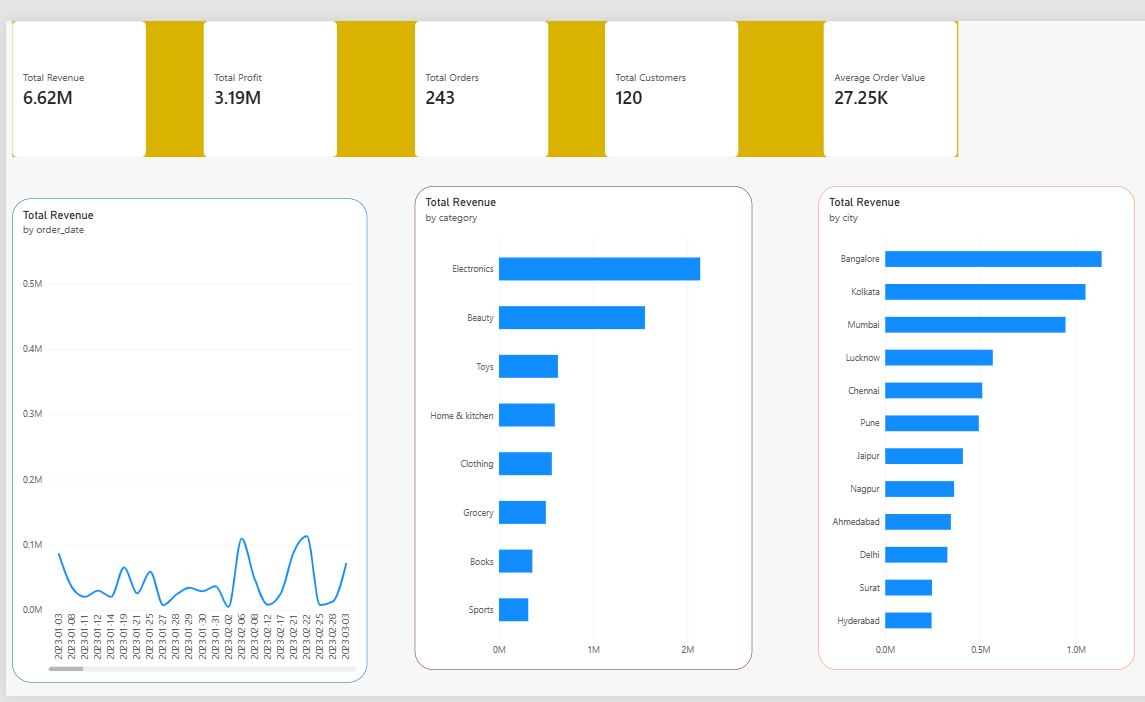

What the dashboard file says about the page in this screenshot:
{"tool":"powerbi","page":{"name":"Executive Overview","canvas":[1920,1080],"ordinal":0},"visuals":[{"type":"cardVisual","fields":{"Data":["ecommerce_analytics clean_order_items.Total Revenue"]},"box":[10.3,0,214.1,218.2],"z":0,"group":"g1"},{"type":"group","id":"g1","title":"Group 1","box":[10.3,0,1512.8,218.2],"z":0},{"type":"cardVisual","fields":{"Data":["ecommerce_analytics clean_order_items.Total Profit"]},"box":[317,0,214,218],"z":1000,"group":"g1"},{"type":"lineChart","fields":{"Category":["ecommerce_analytics clean_orders.order_date"],"Y":["ecommerce_analytics clean_order_items.Total Revenue"]},"box":[10,284,568,774],"z":1000},{"type":"cardVisual","fields":{"Data":["ecommerce_analytics clean_order_items.Total Orders"]},"box":[654.6,0,214,218],"z":2000,"group":"g1"},{"type":"clusteredBarChart","fields":{"Category":["ecommerce_analytics clean_products.category"],"Y":["ecommerce_analytics clean_order_items.Total Revenue"]},"box":[654,264,540,774],"z":2000},{"type":"cardVisual","fields":{"Data":["ecommerce_analytics clean_customers.Total Customers"]},"box":[959.2,0,214,218],"z":3000,"group":"g1"},{"type":"clusteredBarChart","fields":{"Category":["ecommerce_analytics clean_customers.city"],"Y":["ecommerce_analytics clean_order_items.Total Revenue"]},"box":[1300,264,506,774],"z":3000},{"type":"cardVisual","fields":{"Data":["ecommerce_analytics clean_order_items.Average Order Value"]},"box":[1309.1,0,214,218],"z":4000,"group":"g1"}]}

Visuals, with their boxes on the page's 1920x1080 design canvas (x1, y1, x2, y2). These are canvas units, not pixel positions in the 1145x702 screenshot, which may show the page scaled, cropped or inside an application window:
cardVisual - ecommerce_analytics clean_order_items.Total Revenue: select_region(10, 0, 224, 218)
"Group 1" group: select_region(10, 0, 1523, 218)
cardVisual - ecommerce_analytics clean_order_items.Total Profit: select_region(317, 0, 531, 218)
lineChart - ecommerce_analytics clean_orders.order_date x ecommerce_analytics clean_order_items.Total Revenue: select_region(10, 284, 578, 1058)
cardVisual - ecommerce_analytics clean_order_items.Total Orders: select_region(655, 0, 869, 218)
clusteredBarChart - ecommerce_analytics clean_products.category x ecommerce_analytics clean_order_items.Total Revenue: select_region(654, 264, 1194, 1038)
cardVisual - ecommerce_analytics clean_customers.Total Customers: select_region(959, 0, 1173, 218)
clusteredBarChart - ecommerce_analytics clean_customers.city x ecommerce_analytics clean_order_items.Total Revenue: select_region(1300, 264, 1806, 1038)
cardVisual - ecommerce_analytics clean_order_items.Average Order Value: select_region(1309, 0, 1523, 218)
